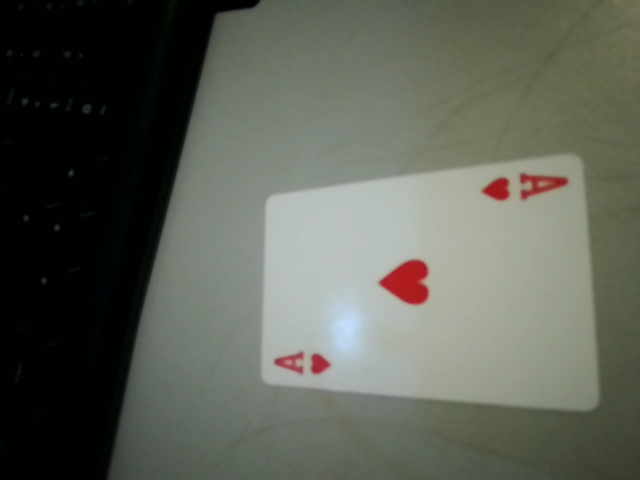hx a: (472, 163, 578, 211)
